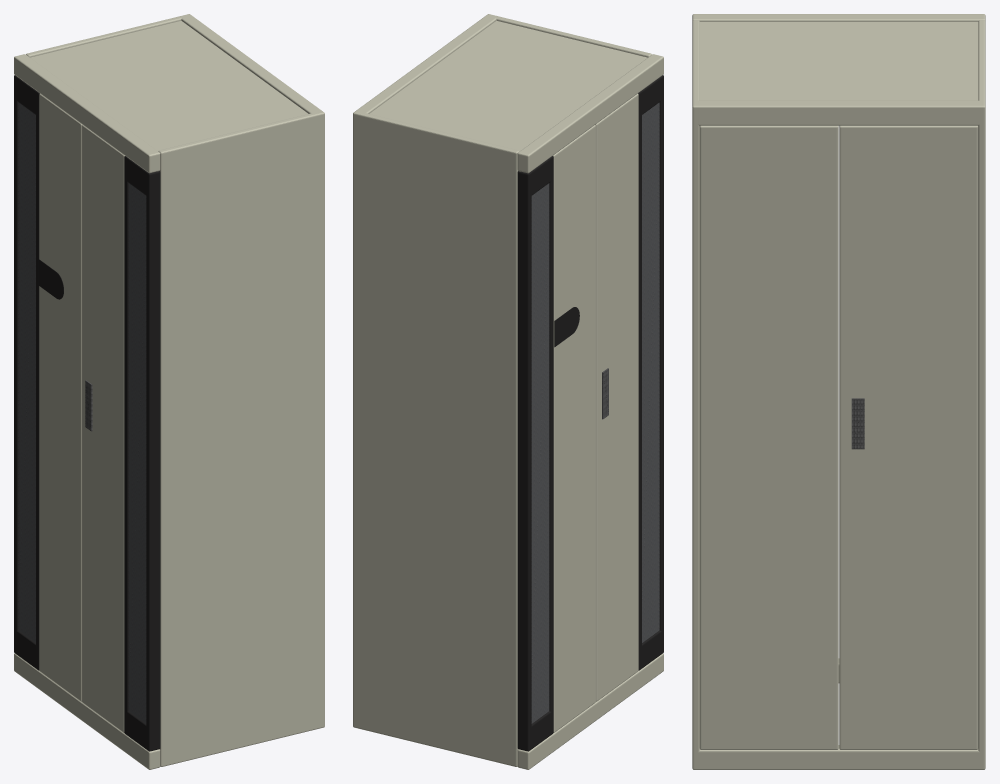
The model's file is zhengliuqi.FBX.
3 views of the same model, side by side, from view 1: azimuth 30°, elevation 25°; view 2: azimuth 150°, elevation 25°; view 3: azimuth 270°, elevation 25° (orthographic). The views are drawn at different scales.
Visible parts, largest first — view 1: 整流器0.8*06*2.0; view 2: 整流器0.8*06*2.0; view 3: 整流器0.8*06*2.0.
Part boxes in pixels (left/top/right/bottom): 整流器0.8*06*2.0: left=14, top=14, right=324, bottom=769; 整流器0.8*06*2.0: left=353, top=14, right=663, bottom=769; 整流器0.8*06*2.0: left=692, top=14, right=985, bottom=769.
Size of the model in its own units: 608 by 2000 by 800.
Materials: 4 (2 with a texture image).
